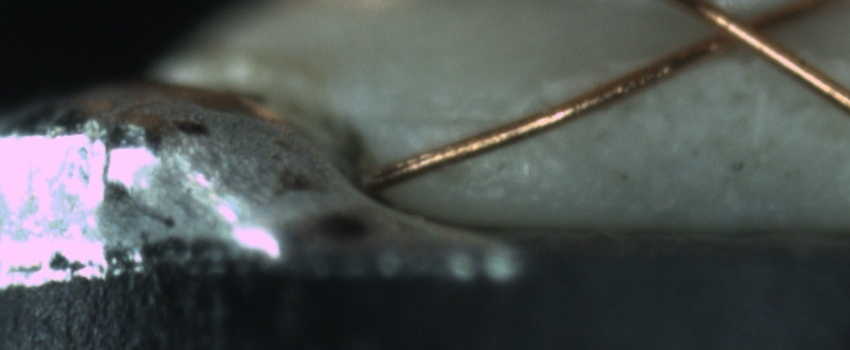CL: (688, 1, 792, 62)
DL: (376, 89, 518, 153)
